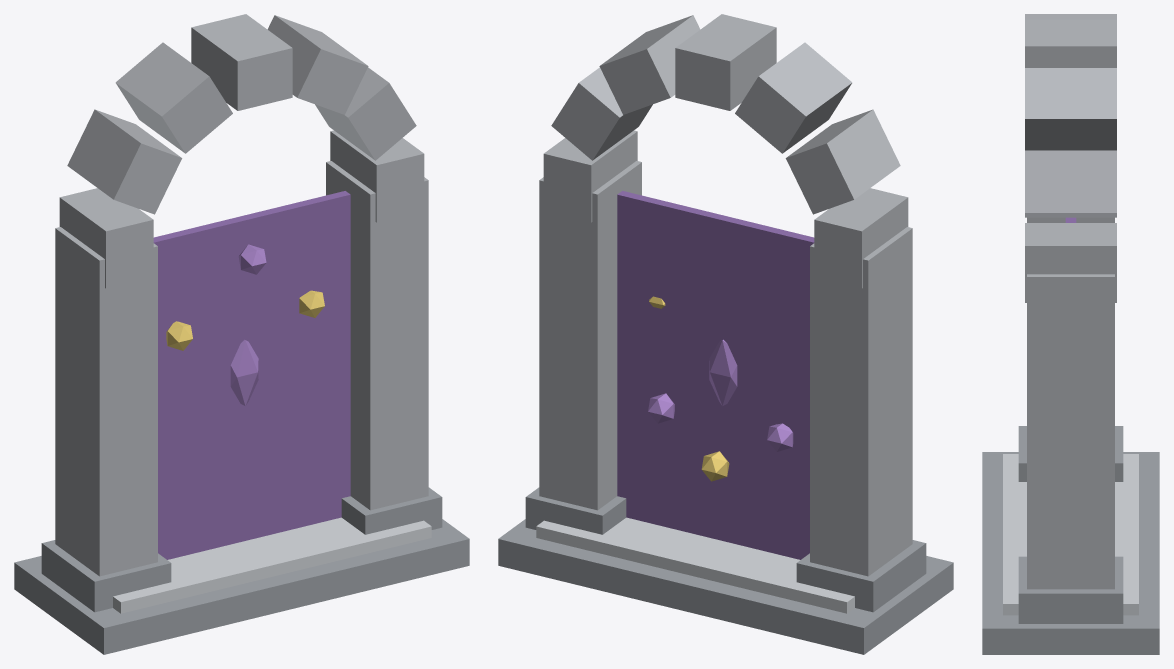
The model's file is animprop_portal_02.glb.
The picture shows the model from 3 angles, left to right: view 1: azimuth 30°, elevation 25°; view 2: azimuth 150°, elevation 25°; view 3: azimuth 270°, elevation 25°; orthographic projection.
Visible parts, largest first — view 1: animprop; view 2: animprop; view 3: animprop.
Part boxes in pixels (<box>): animprop: <box>14,14,469,654</box>; animprop: <box>498,14,953,654</box>; animprop: <box>982,14,1159,654</box>.
Size of the model in its own units: 2 by 2.82 by 0.85.
